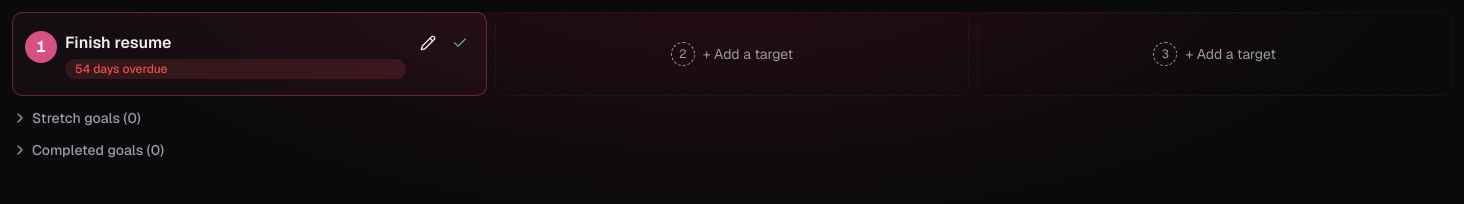
Scenario: TargetsStrip — Completed goals › renders with a count of 0 and a quiet empty message when there are no completed goals
Click the button "Completed goals (0)" at point(91, 150), box [12, 140, 1452, 160]
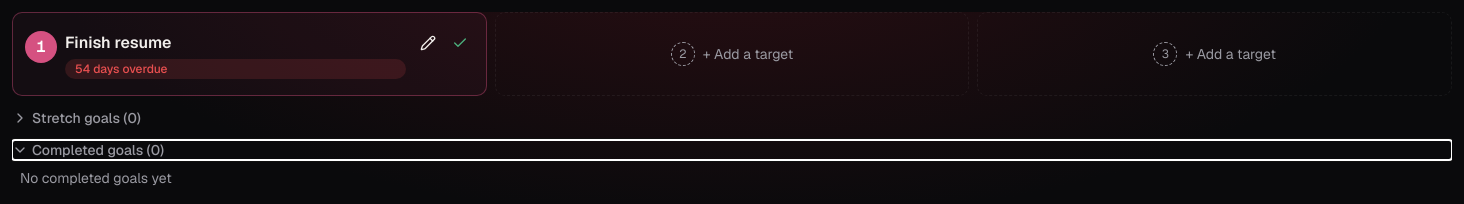
Result: the text "No completed goals yet" is shown at [20, 169, 172, 187]
